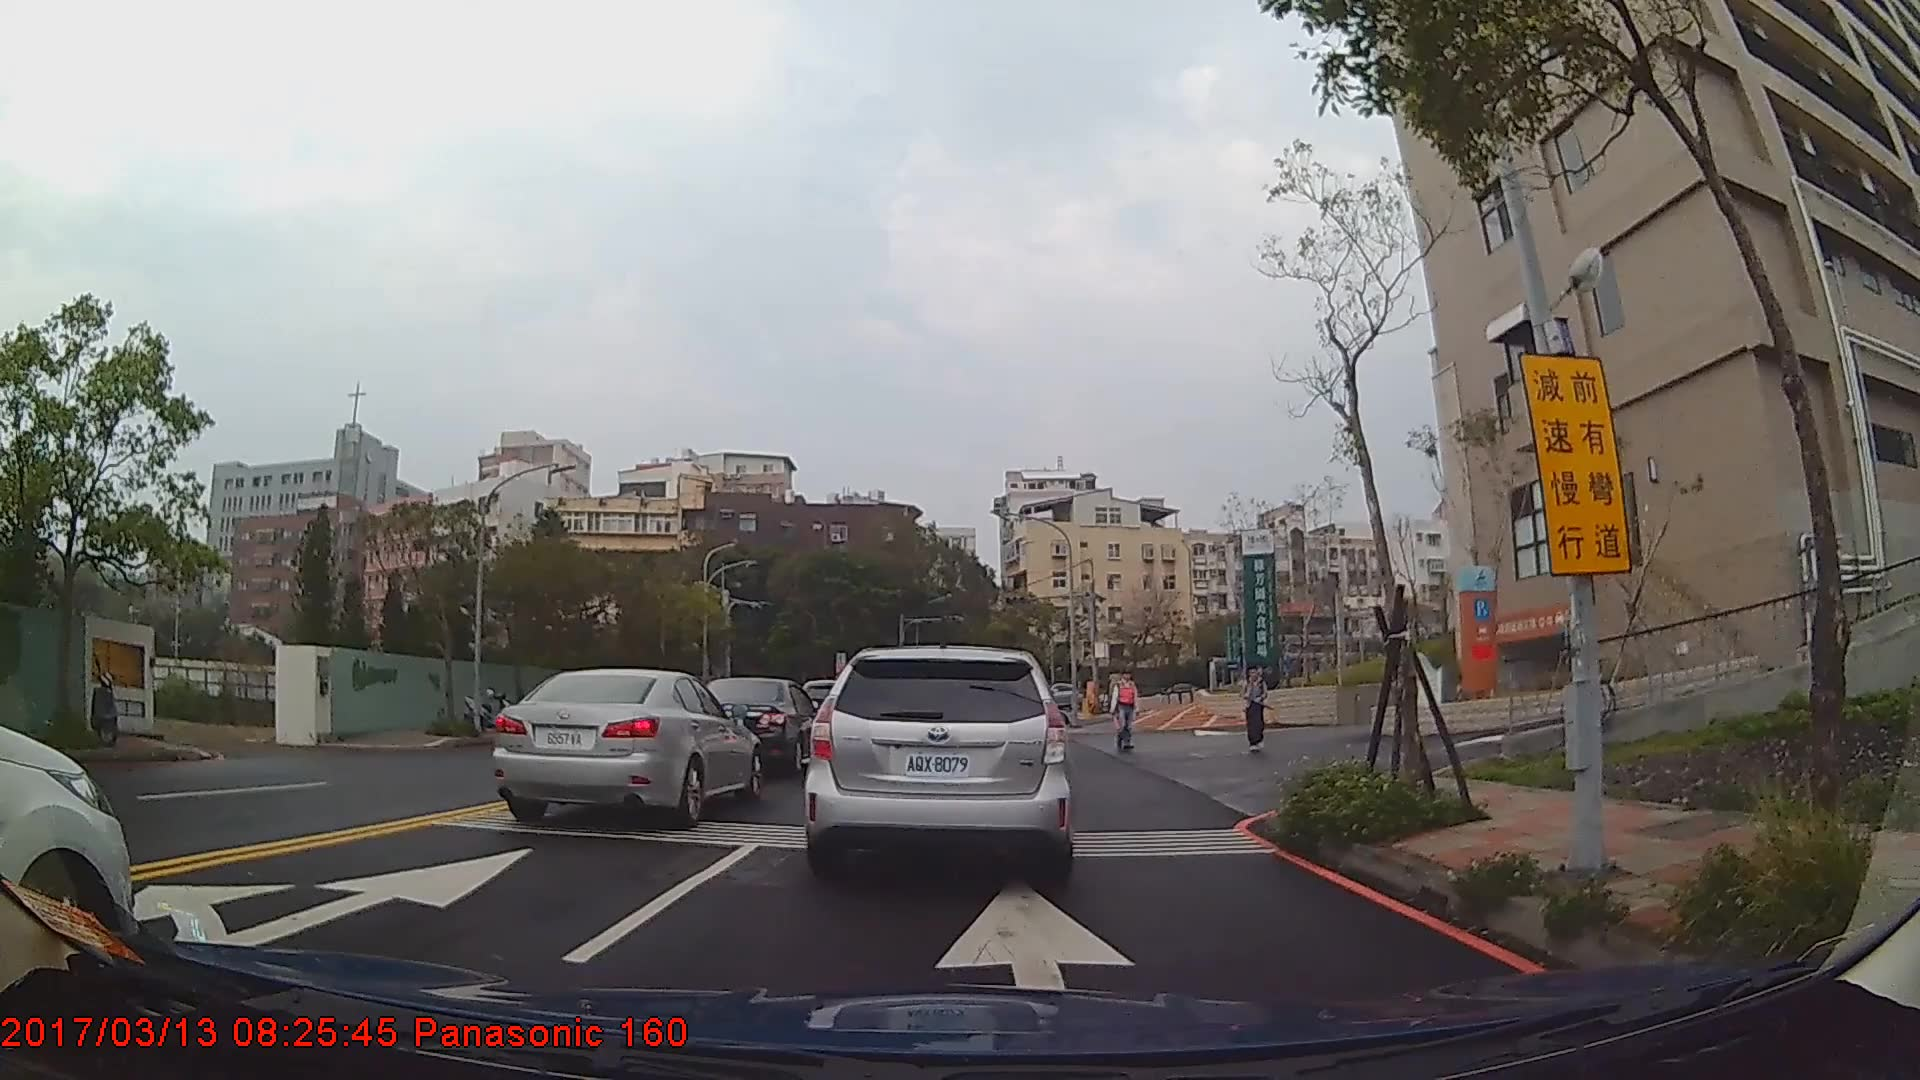pedestrian: (1109, 670, 1141, 754), (1243, 668, 1269, 756)
vehicle: (804, 643, 1073, 876), (492, 667, 760, 826), (693, 675, 822, 776)
